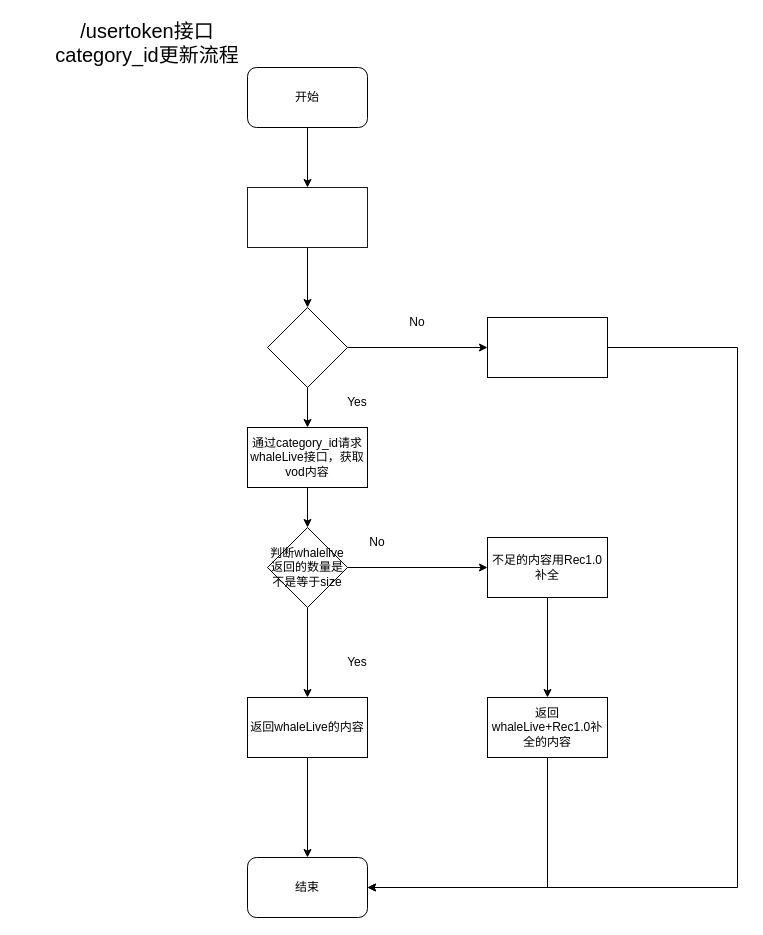
Some shapes in this 763 by 935 pixel diagram are drawn without their labels. The centre of each missing label's shape, as x and y in pixels:
category_id不为空: the point at 307,347
使用Rec1.0的内容: the point at 547,347
通过deviceId 调用 /auth-api/deviceInfoByDeviceId 接口返回deviceSetId: the point at 307,217
